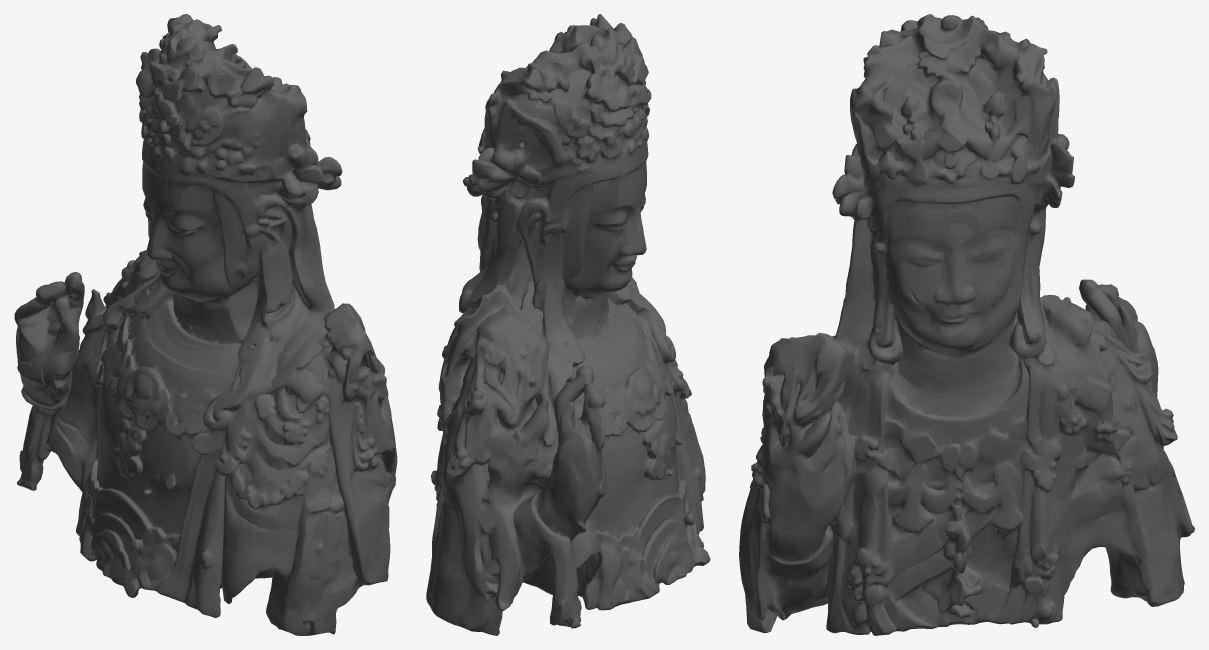
File: deceba5b-db34-4fb7-a83b-0e837e747361.glb
3 views of the same model, side by side, from view 1: azimuth 30°, elevation 25°; view 2: azimuth 150°, elevation 25°; view 3: azimuth 270°, elevation 25° (orthographic). The views are drawn at different scales.
Visible parts, largest first — view 1: tripo_node_78951b77-7e34-42bf-9653-231bc0f709bf; view 2: tripo_node_78951b77-7e34-42bf-9653-231bc0f709bf; view 3: tripo_node_78951b77-7e34-42bf-9653-231bc0f709bf.
Part boxes in pixels (left/top/right/bottom): tripo_node_78951b77-7e34-42bf-9653-231bc0f709bf: left=14, top=14, right=397, bottom=635; tripo_node_78951b77-7e34-42bf-9653-231bc0f709bf: left=426, top=14, right=710, bottom=635; tripo_node_78951b77-7e34-42bf-9653-231bc0f709bf: left=739, top=14, right=1194, bottom=635.
Size of the model in its own units: 0.436 by 1 by 0.7002.
Materials: 1 (1 with a texture image).
